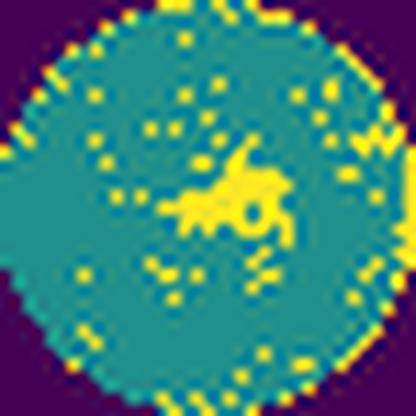Center: (153, 126, 299, 258)
